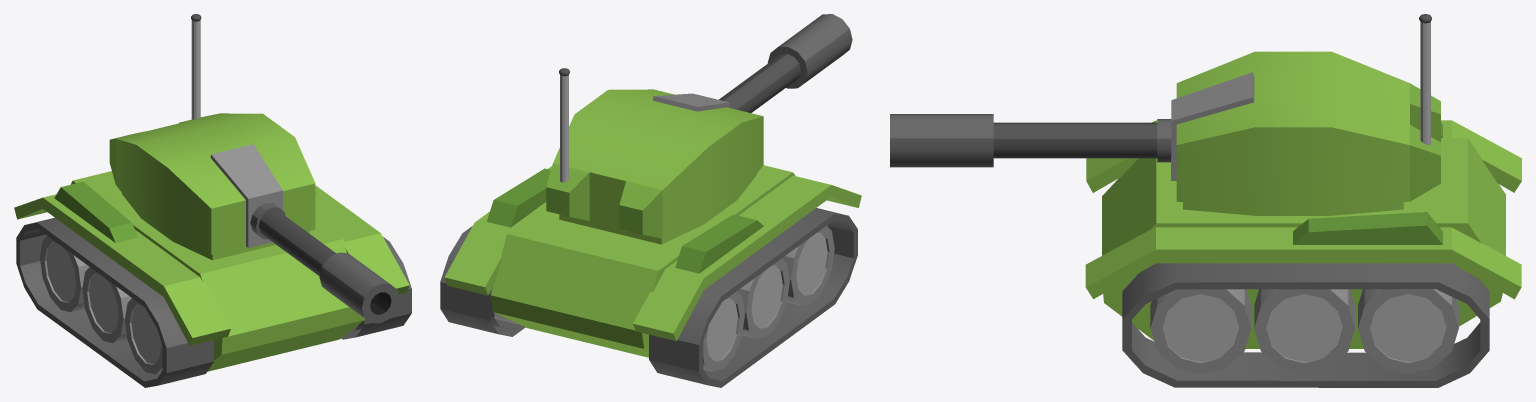
The model's file is Tank.fbx.
The picture shows the model from 3 angles, left to right: view 1: azimuth 30°, elevation 25°; view 2: azimuth 150°, elevation 25°; view 3: azimuth 270°, elevation 25°; orthographic projection. The views are drawn at different scales.
Parts seen in each view (by area): view 1: Tank; view 2: Tank; view 3: Tank.
Boxes of the visible parts, x1,y1,x2,y2 form: Tank: [14, 14, 411, 387]; Tank: [440, 14, 861, 387]; Tank: [890, 14, 1521, 387].
Bounding box in the file's own units: 11.84 × 12.01 × 21.62.
Materials: 1 (1 with a texture image).
